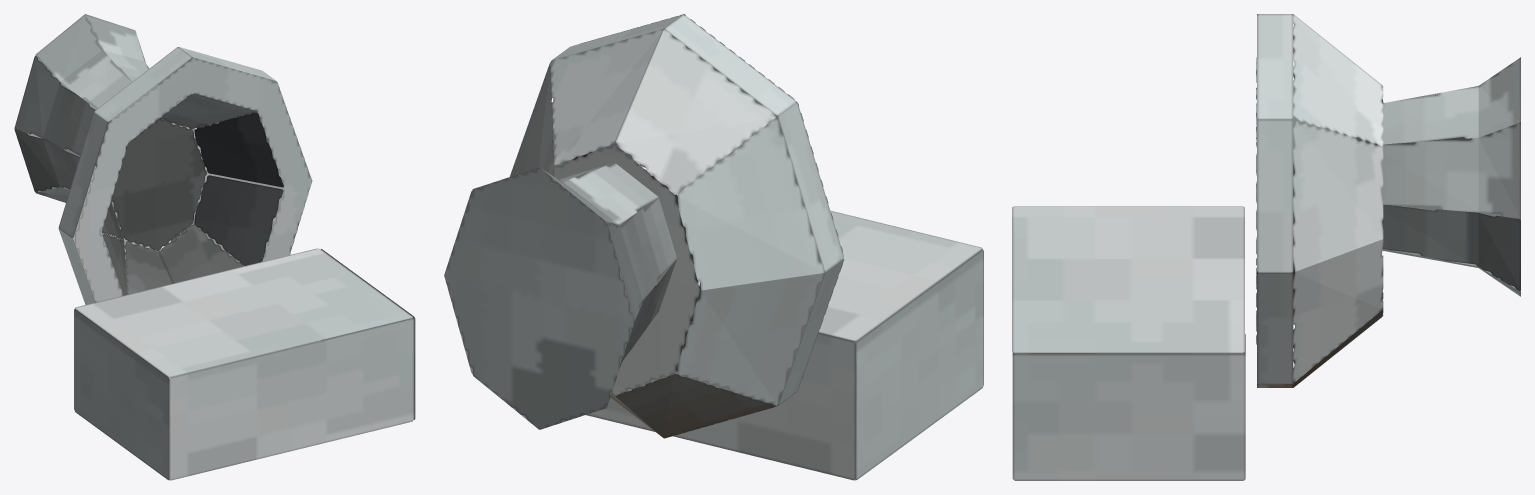
The model's file is pz_house_toilet_tank.obj.
3 renders of one model, left to right at view 1: azimuth 30°, elevation 25°; view 2: azimuth 150°, elevation 25°; view 3: azimuth 270°, elevation 25°, orthographic. The views are drawn at different scales.
Parts seen in each view (by area): view 1: pz_house_toilet_tank_|_3_parte_3, pz_house_toilet_tank_|_2_parte_2, pz_house_toilet_tank_|_1_parte_1; view 2: pz_house_toilet_tank_|_2_parte_2, pz_house_toilet_tank_|_1_parte_1, pz_house_toilet_tank_|_3_parte_3; view 3: pz_house_toilet_tank_|_3_parte_3, pz_house_toilet_tank_|_2_parte_2, pz_house_toilet_tank_|_1_parte_1.
Part boxes in pixels (x1,y1,x2,y2): pz_house_toilet_tank_|_3_parte_3: (74, 248, 415, 480); pz_house_toilet_tank_|_2_parte_2: (58, 47, 312, 304); pz_house_toilet_tank_|_1_parte_1: (14, 14, 183, 203); pz_house_toilet_tank_|_2_parte_2: (510, 14, 844, 438); pz_house_toilet_tank_|_1_parte_1: (444, 163, 676, 429); pz_house_toilet_tank_|_3_parte_3: (586, 174, 983, 480); pz_house_toilet_tank_|_3_parte_3: (1012, 206, 1245, 480); pz_house_toilet_tank_|_2_parte_2: (1256, 14, 1383, 387); pz_house_toilet_tank_|_1_parte_1: (1375, 57, 1520, 296).
Bounding box in the file's own units: 0.66 × 0.82 × 0.9617.
Materials: 1 (1 with a texture image).
